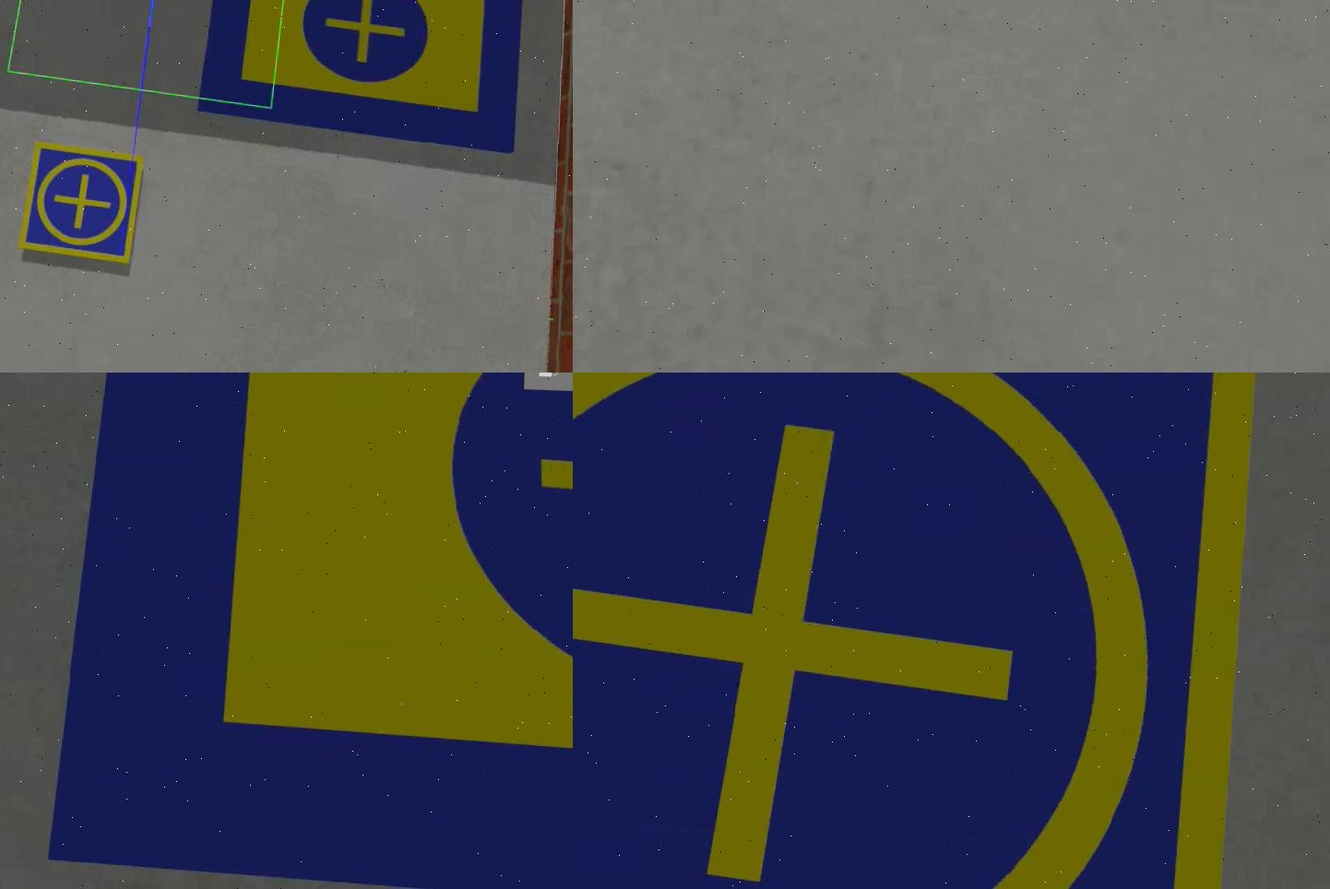large_base: (40, 373, 572, 889), (192, 1, 525, 158)
small_base: (572, 373, 1264, 889), (16, 142, 145, 271)
